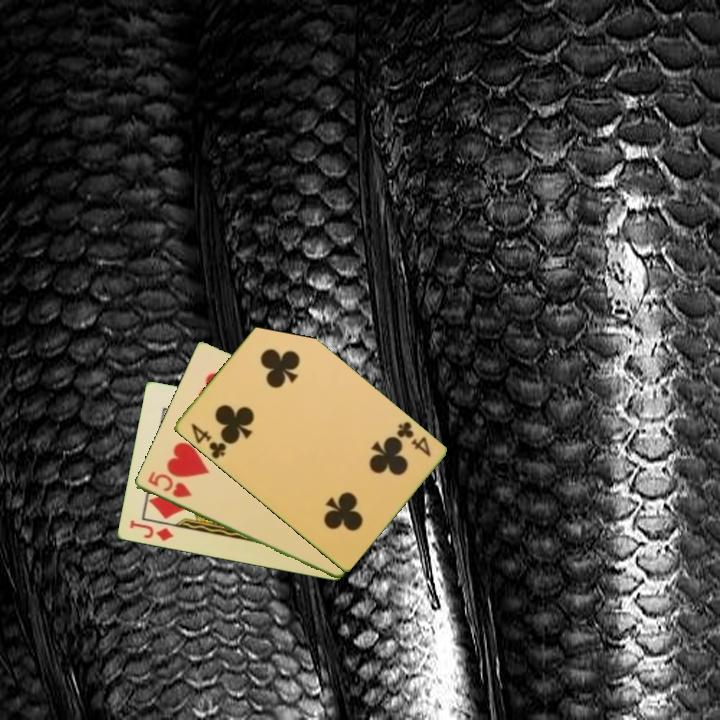4c: (187, 419, 229, 462), (392, 418, 434, 460)
5h: (144, 468, 194, 501)
Jd: (126, 517, 176, 544)
